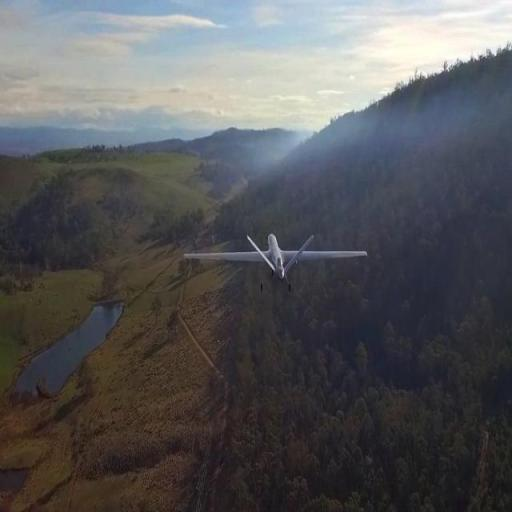uav: (183, 224, 373, 304)
